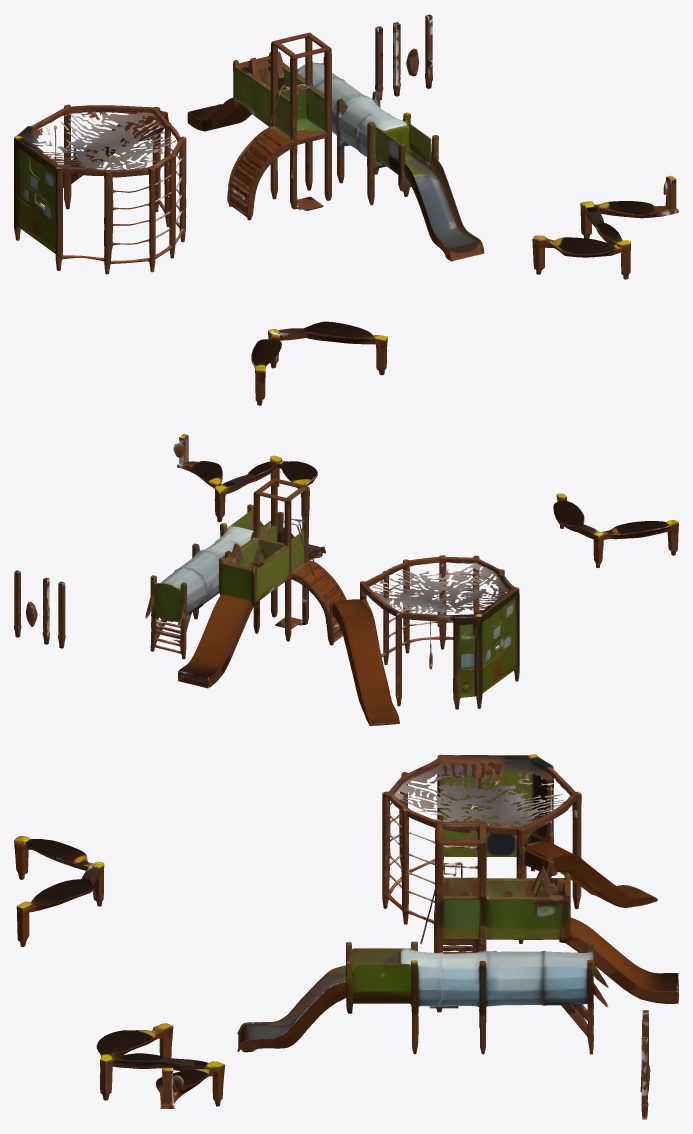
File: perosotan.glb
The picture shows the model from 3 angles, top to bottom: view 1: azimuth 30°, elevation 25°; view 2: azimuth 150°, elevation 25°; view 3: azimuth 270°, elevation 25°; orthographic projection. The views are drawn at different scales.
Visible parts, largest first — view 1: model; view 2: model; view 3: model.
Part boxes in pixels (box(x1,y1,x2,y2)): model: box(14, 14, 678, 405); model: box(14, 434, 678, 725); model: box(14, 754, 678, 1119).
Bounding box in the file's own units: 1.89 × 0.5769 × 1.96.
1 material, 1 textured.
